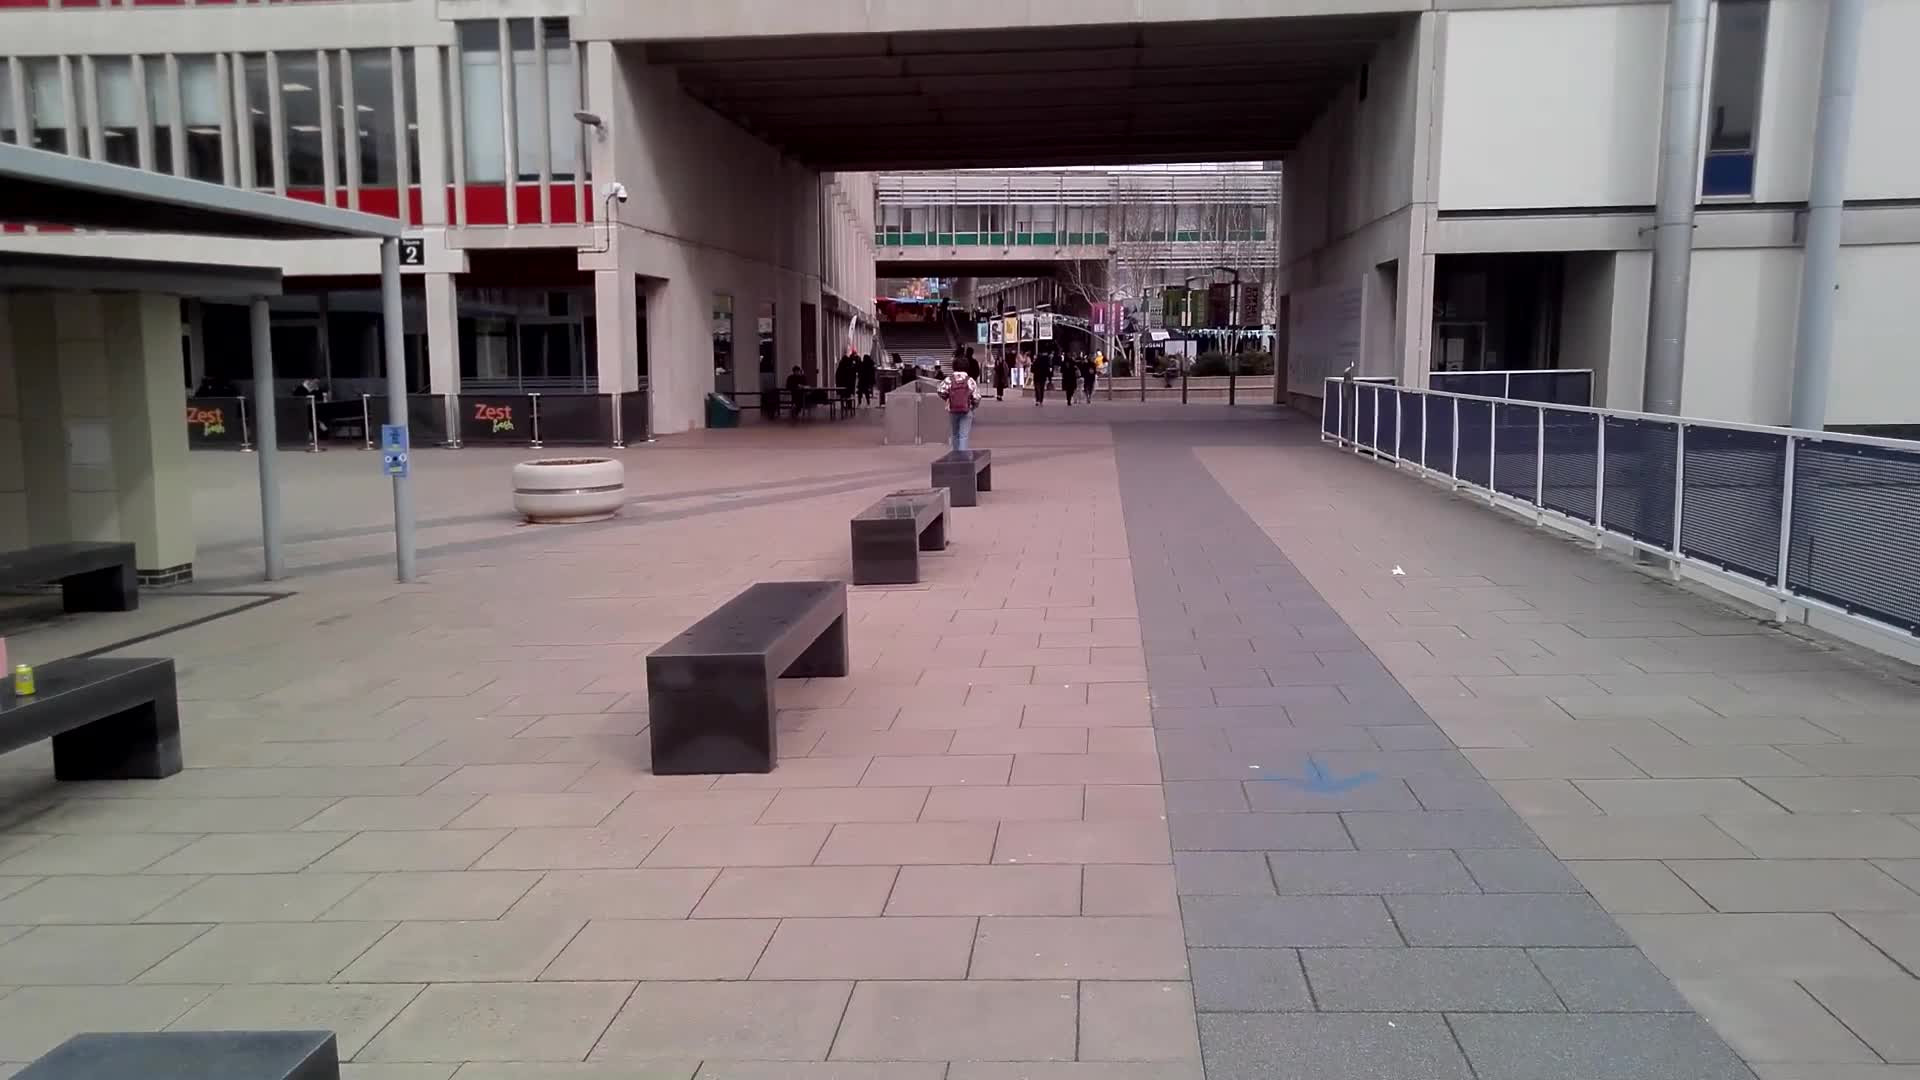Backpack: (942, 379, 974, 414)
Bench: (649, 579, 854, 775), (854, 487, 954, 581), (928, 449, 998, 503)
Person: (941, 355, 981, 453)
